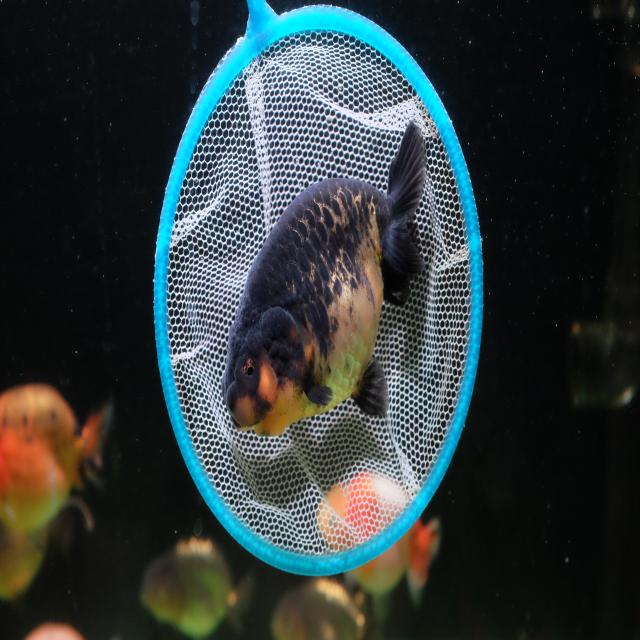Tilapia: (223, 122, 426, 446)
